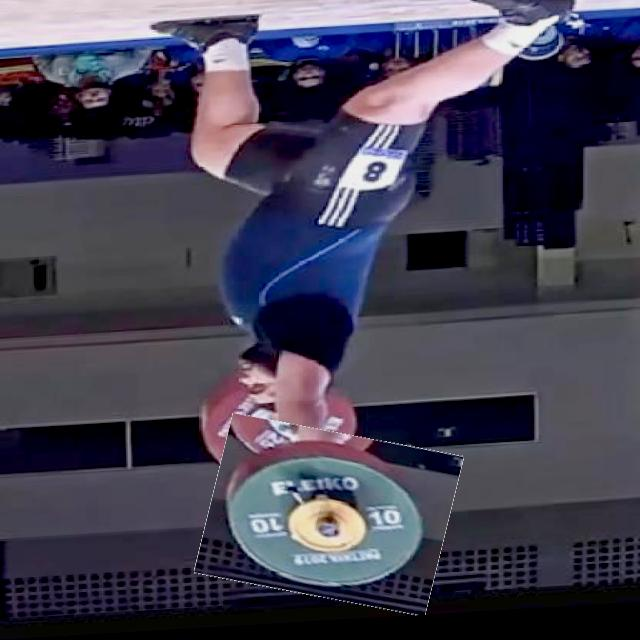barbell: (203, 420, 457, 619)
